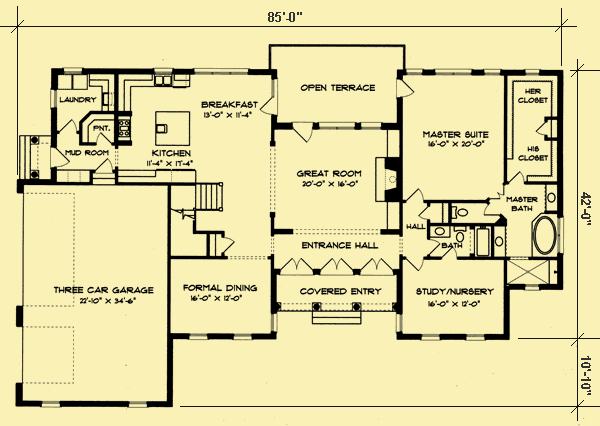bathroom has a tub, small and large sinks: (425, 201, 493, 259)
kitchen has a counter, cooking range and sink: (118, 70, 208, 186)
laundry room has washer and dryer: (49, 67, 117, 144)
master bathroom has a large bathtub, shower space, sinks and closets: (493, 69, 566, 291)
